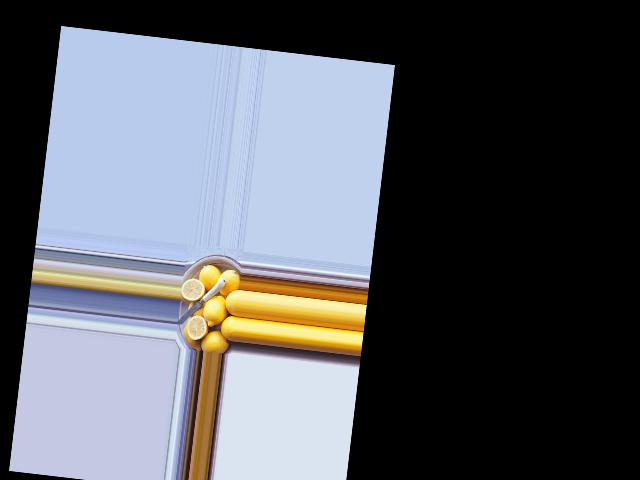lemon: (197, 327, 230, 354)
